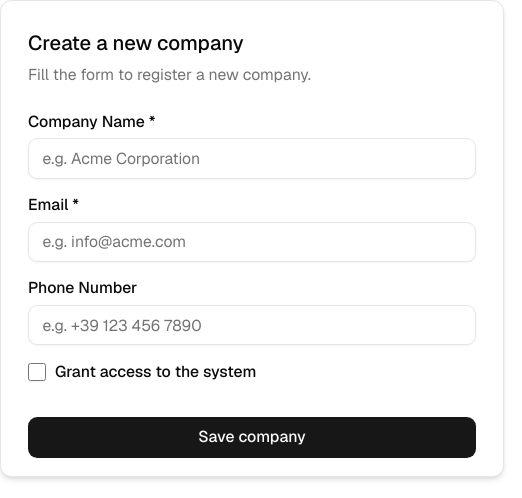
Test case: CompanyForm › should disable submit button during submission
Type "Test" into the field labelled "Company Name *" at coordinates (252, 159), box [28,138,476,179]
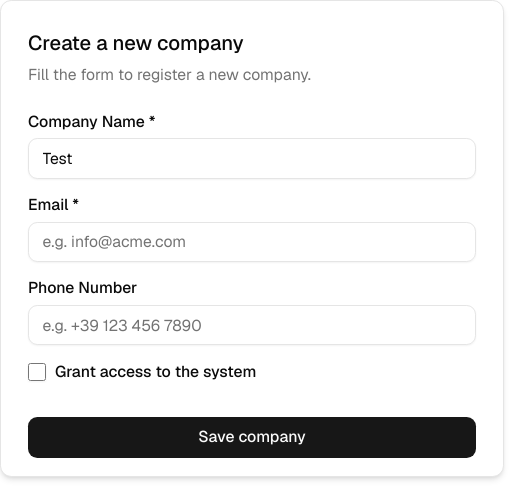
Type "test@test.com" into the field labelled "Email *" at coordinates (252, 242), box [28,222,476,262]
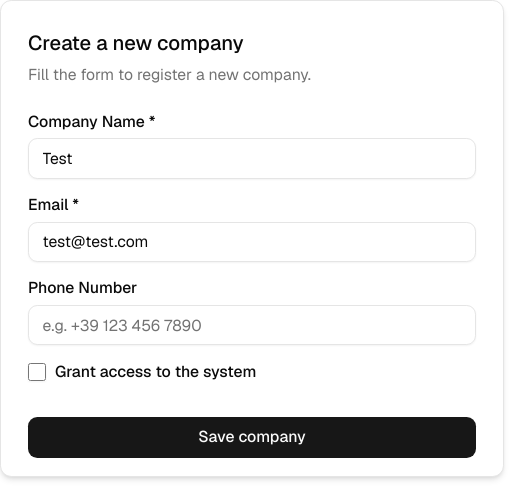
Click the button "Save company" at coordinates (252, 438), box [28,417,476,458]
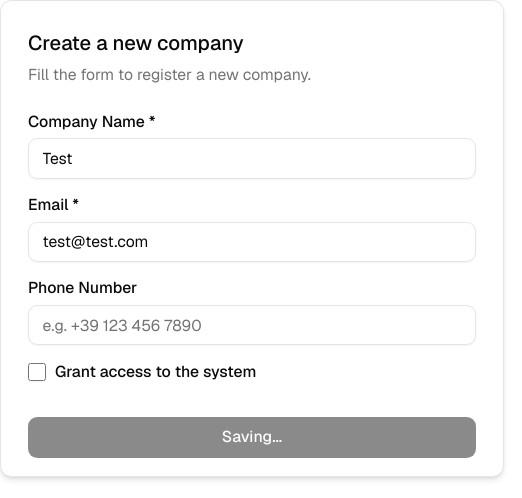
Check: the button named "save company" is disabled, box [28,417,476,458]
